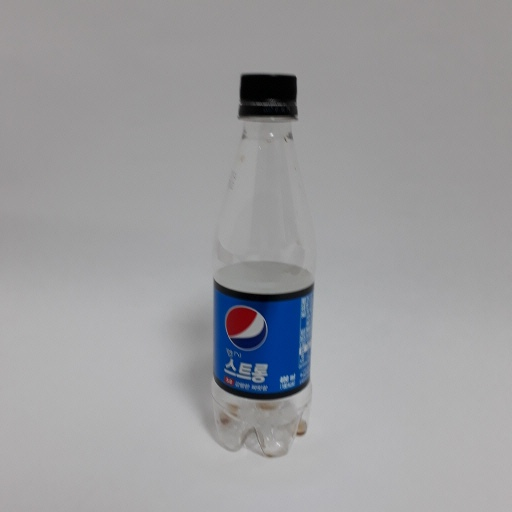Plastic_0: (203, 64, 322, 458)
